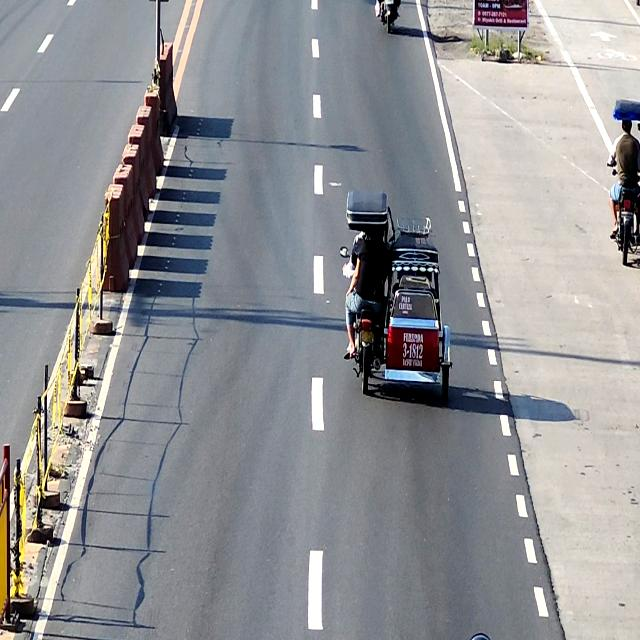License-Plate: (359, 332, 375, 344)
Tricycle: (339, 191, 452, 402), (609, 101, 640, 265)
